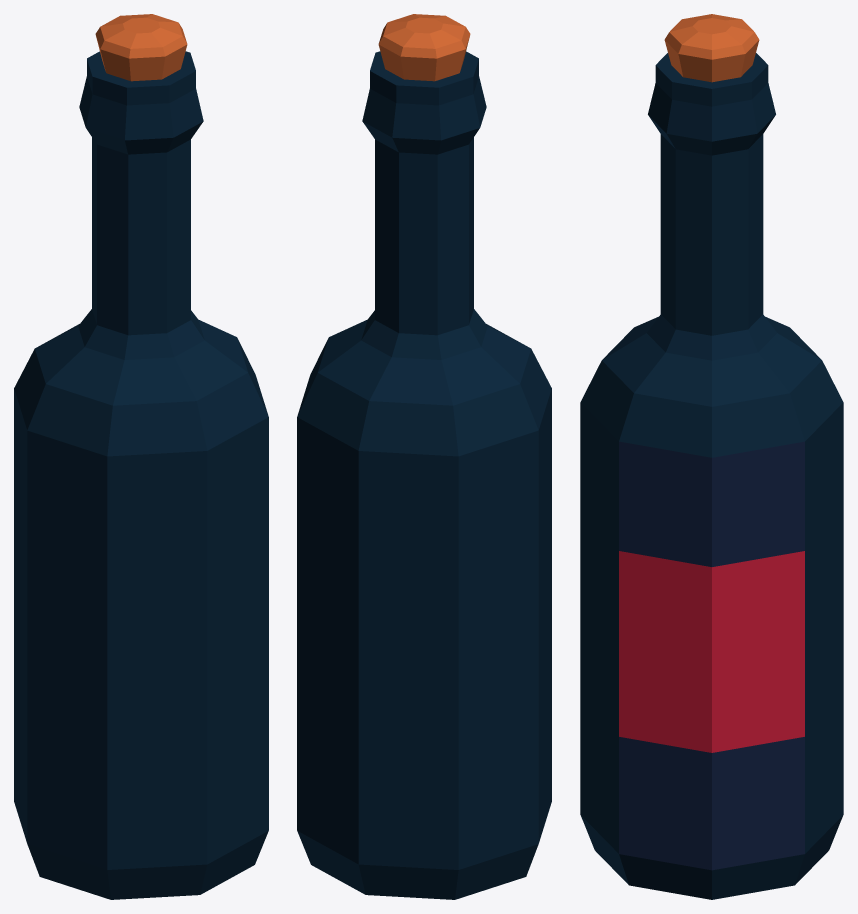
Rendered from bouteille.fbx.
The picture shows the model from 3 angles, left to right: view 1: azimuth 30°, elevation 25°; view 2: azimuth 150°, elevation 25°; view 3: azimuth 270°, elevation 25°; orthographic projection.
Parts seen in each view (by area): view 1: Bouteille; view 2: Bouteille; view 3: Bouteille.
Boxes of the visible parts, left/top/right/bottom form: Bouteille: left=14, top=14, right=268, bottom=899; Bouteille: left=297, top=14, right=551, bottom=899; Bouteille: left=580, top=14, right=843, bottom=899.
Bounding box in the file's own units: 32.48 × 113 × 32.48.
